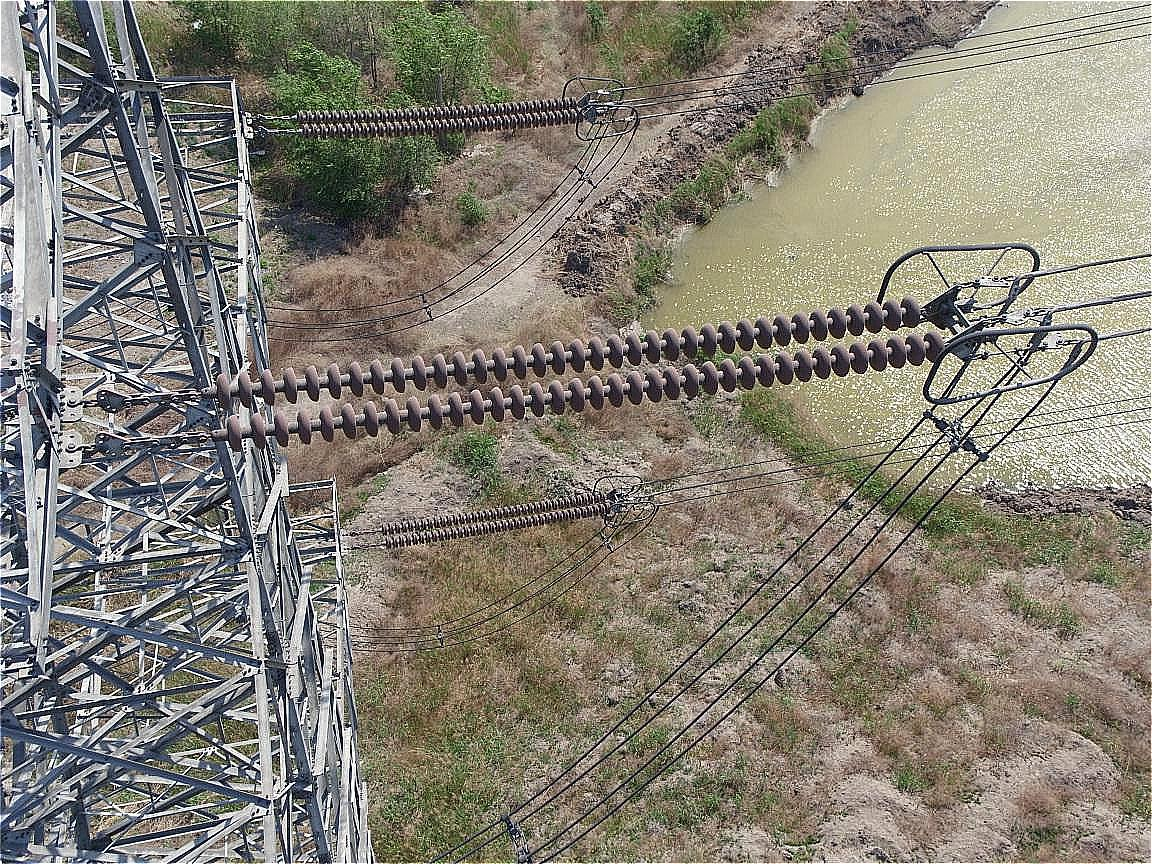insultor1: (175, 284, 984, 444)
insultor2: (275, 89, 617, 147), (365, 488, 623, 555)
